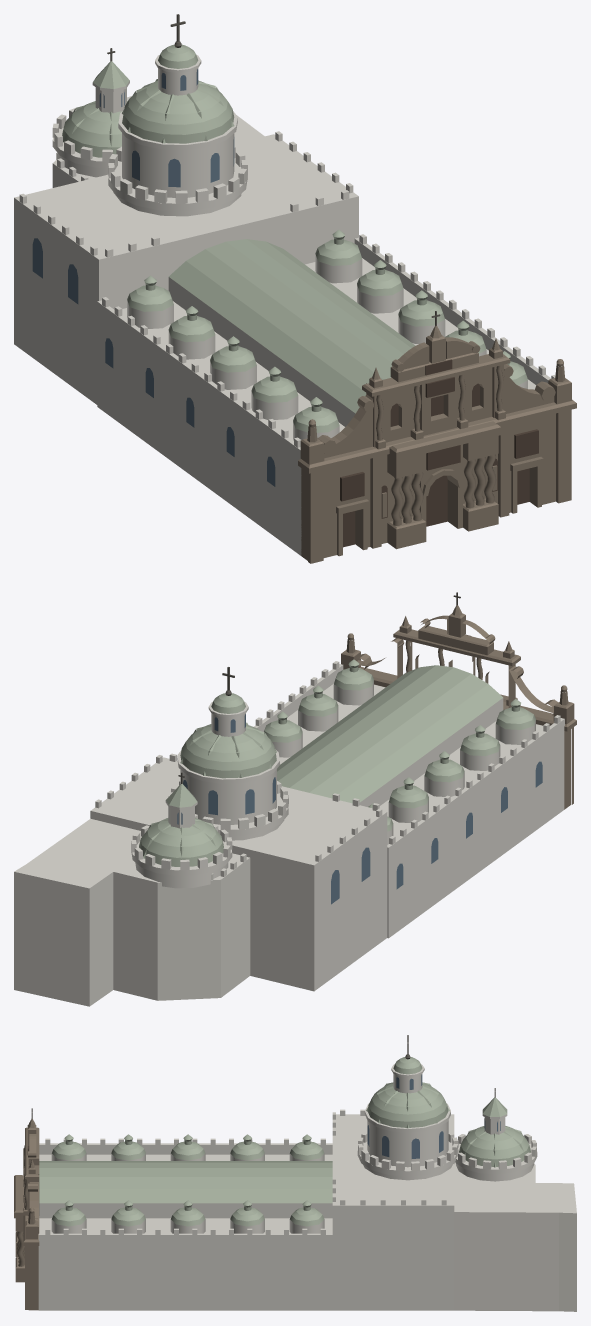
File: quito-la-compania.glb
3 renders of one model, top to bottom at view 1: azimuth 30°, elevation 25°; view 2: azimuth 150°, elevation 25°; view 3: azimuth 270°, elevation 25°, orthographic. The views are drawn at different scales.
Visible parts, largest first — view 1: Iglesia de la Compañía de Jesús, Quito; view 2: Iglesia de la Compañía de Jesús, Quito; view 3: Iglesia de la Compañía de Jesús, Quito.
Part boxes in pixels (x1,y1,x2,y2): Iglesia de la Compañía de Jesús, Quito: (14, 14, 576, 563); Iglesia de la Compañía de Jesús, Quito: (14, 592, 576, 1006); Iglesia de la Compañía de Jesús, Quito: (14, 1035, 576, 1311).
Bounding box in the file's own units: 30.7 × 35.04 × 77.6.
